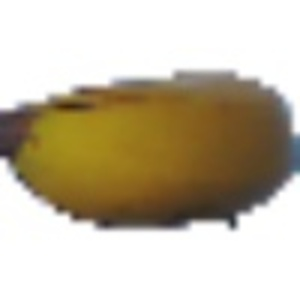banana: (1, 59, 297, 234)
